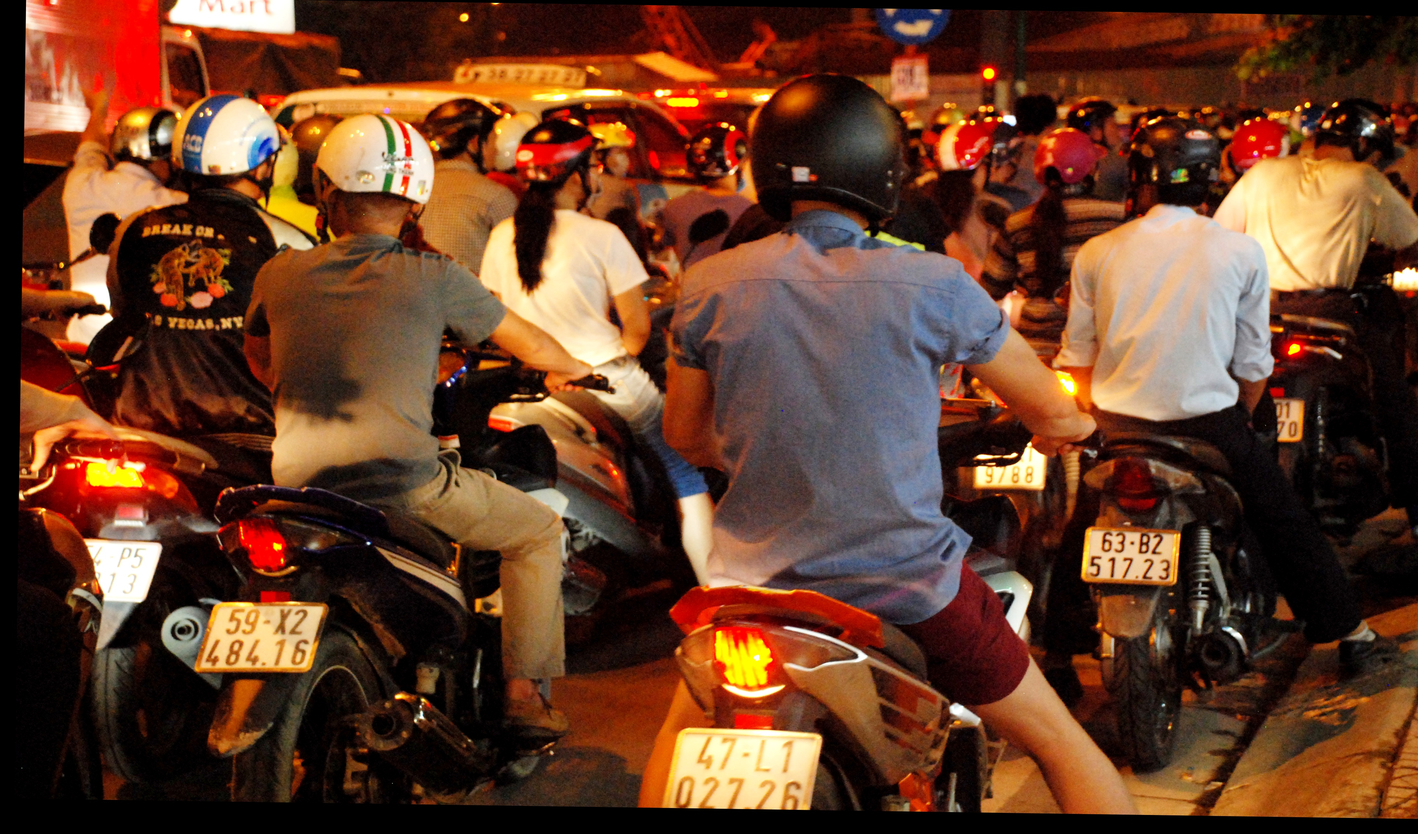Bien-so: (674, 728, 822, 810), (192, 599, 324, 671), (1086, 523, 1181, 587), (87, 536, 164, 606), (974, 445, 1045, 491), (1278, 399, 1305, 445)
